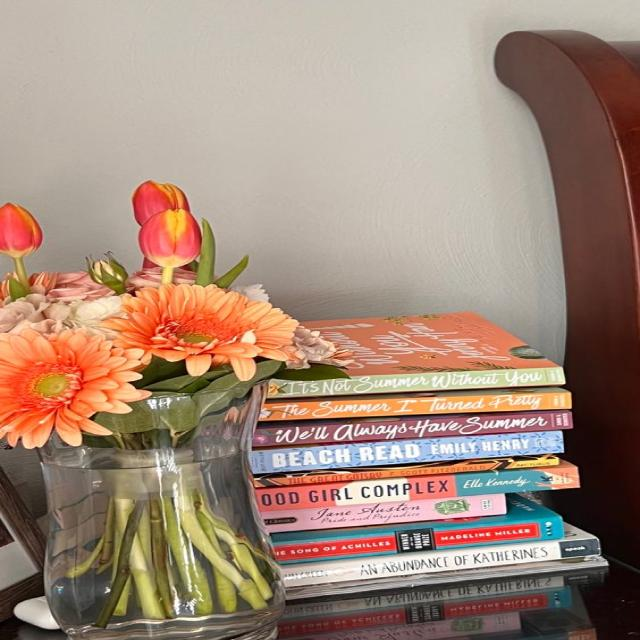book: (258, 464, 578, 513), (282, 538, 600, 586), (275, 517, 565, 564), (252, 431, 563, 474), (255, 410, 572, 446), (262, 494, 506, 533), (261, 392, 571, 422), (261, 456, 559, 486), (269, 367, 566, 396)
flowers: (0, 181, 353, 639)
